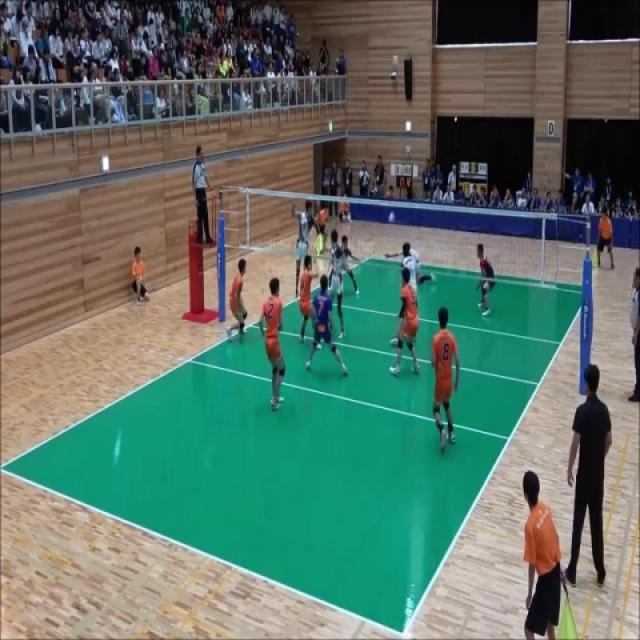volleyball: (388, 211, 396, 224), (346, 215, 351, 222)
